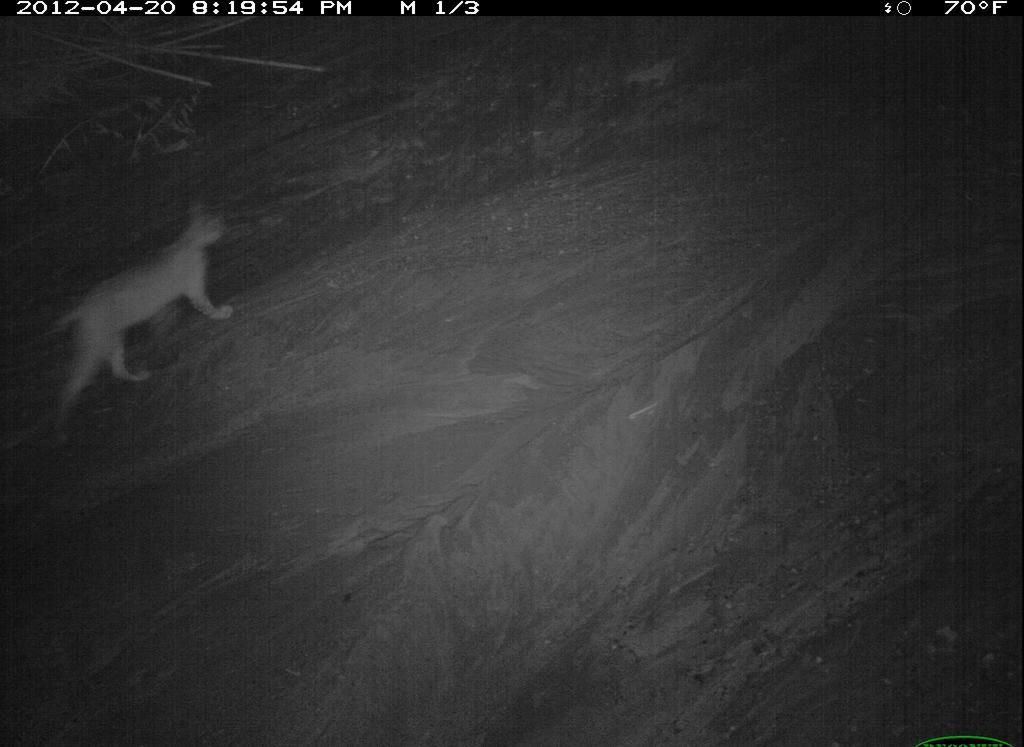bobcat: (80, 384, 473, 747)
